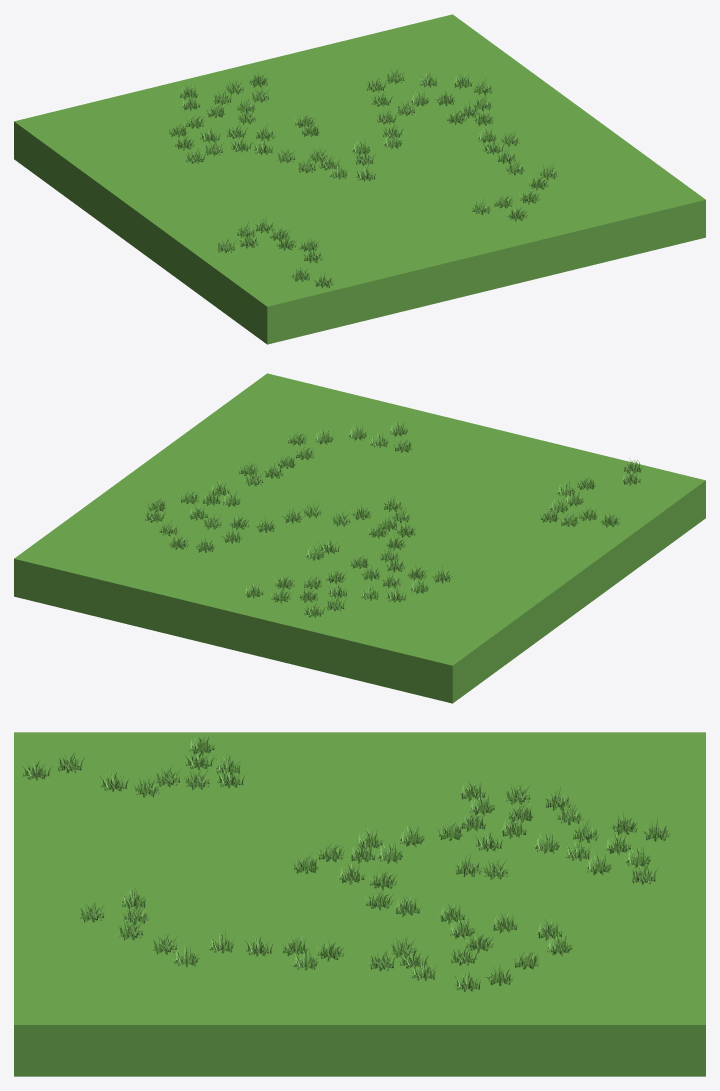
File: FLOOR.fbx
The picture shows the model from 3 angles, top to bottom: view 1: azimuth 30°, elevation 25°; view 2: azimuth 150°, elevation 25°; view 3: azimuth 270°, elevation 25°; orthographic projection. The views are drawn at different scales.
Parts seen in each view (by area): view 1: Cube.027; view 2: Cube.027; view 3: Cube.027.
Part boxes in pixels (x1=…): Cube.027: x1=14, y1=14, x2=705, y2=344; Cube.027: x1=14, y1=373, x2=705, y2=703; Cube.027: x1=14, y1=732, x2=705, y2=1076.
Bounding box in the file's own units: 14859 × 1663 × 14859.
